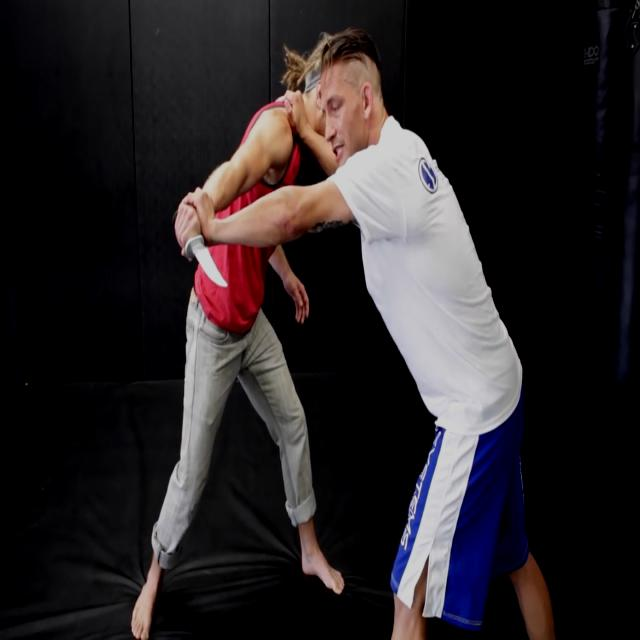knife: (170, 205, 231, 298)
